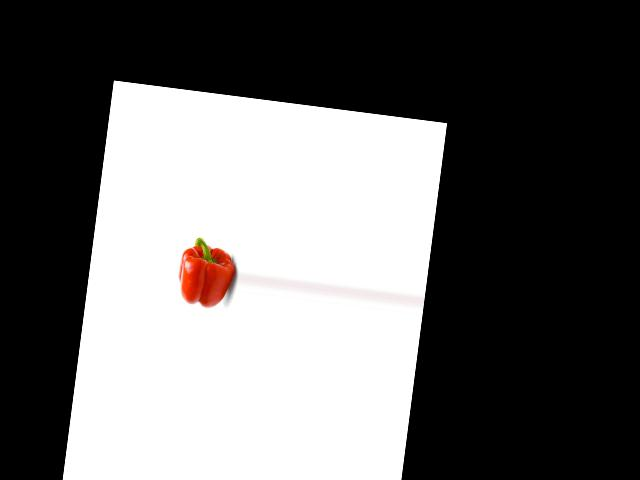bell_pepper: (174, 231, 237, 316)
